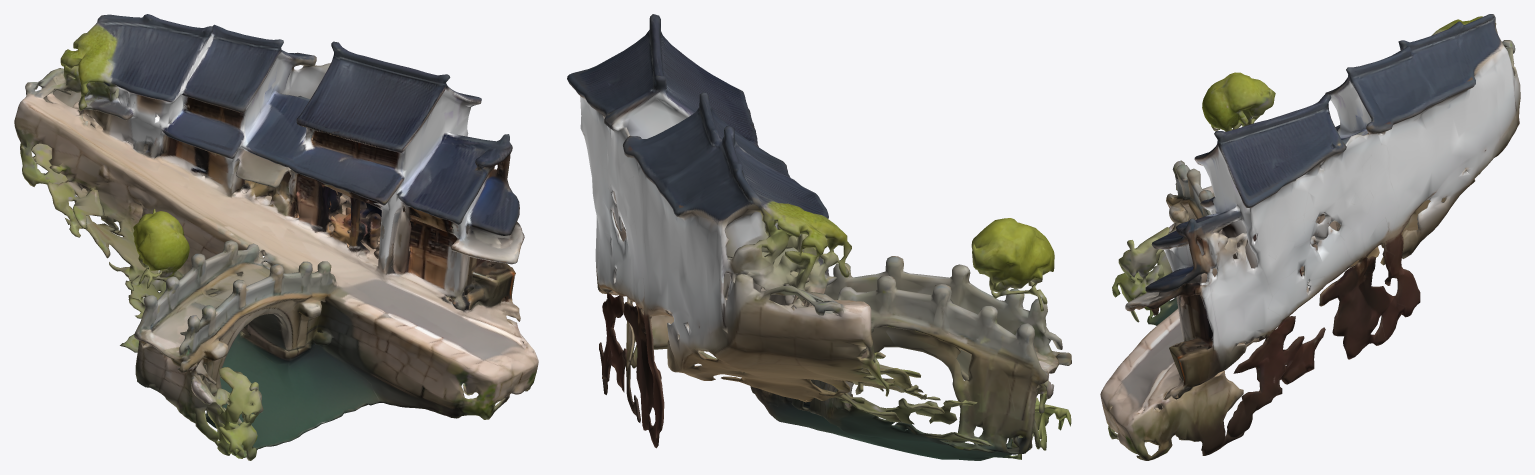
The picture shows the model from 3 angles, left to right: view 1: azimuth 30°, elevation 25°; view 2: azimuth 150°, elevation 25°; view 3: azimuth 270°, elevation 25°; orthographic projection. The views are drawn at different scales.
Visible parts, largest first — view 1: material.001; view 2: material.001; view 3: material.001.
Boxes of the visible parts, bbox=[...] form: material.001: bbox=[14, 14, 538, 460]; material.001: bbox=[567, 14, 1071, 460]; material.001: bbox=[1100, 14, 1520, 460].
Bounding box in the file's own units: 0.7969 × 0.6934 × 0.7955.
1 material, 1 textured.
